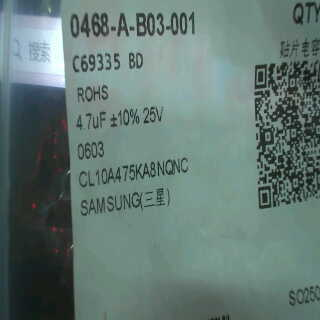4.7uF: (70, 105, 109, 138)
